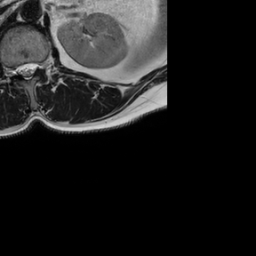CCS_normal: (24, 57, 30, 84)
LFS_normal: (37, 55, 44, 74)
LLS_normal: (31, 55, 37, 79)
RFS_normal: (10, 60, 18, 80)
RLS_normal: (17, 57, 24, 80)
